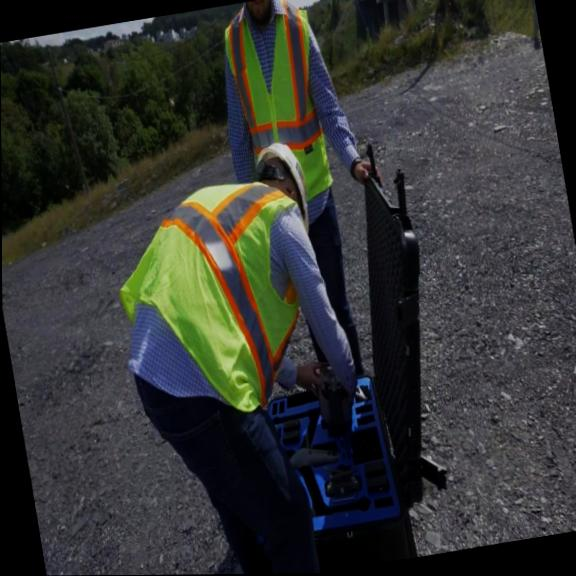safety_vest: (103, 172, 330, 429), (218, 0, 339, 211)
